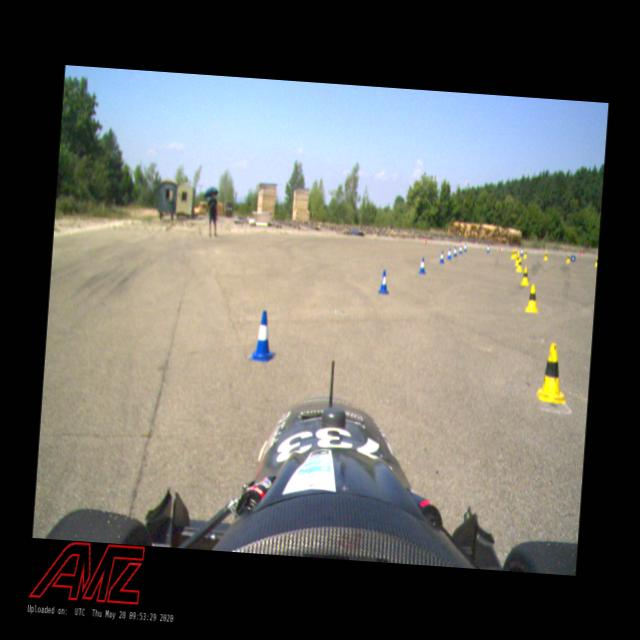blue_cone: (248, 309, 277, 362), (378, 269, 390, 294), (418, 256, 426, 274), (438, 250, 444, 264), (446, 248, 452, 260), (452, 246, 457, 256), (458, 244, 462, 254), (520, 247, 524, 256), (464, 242, 467, 252), (486, 244, 489, 252)
yellow_cone: (535, 342, 570, 404), (524, 284, 540, 312), (520, 266, 530, 286), (516, 258, 523, 272), (543, 250, 548, 260), (594, 255, 598, 267), (515, 254, 519, 266), (523, 248, 527, 258), (510, 248, 514, 258), (566, 254, 570, 262), (514, 248, 516, 257)
